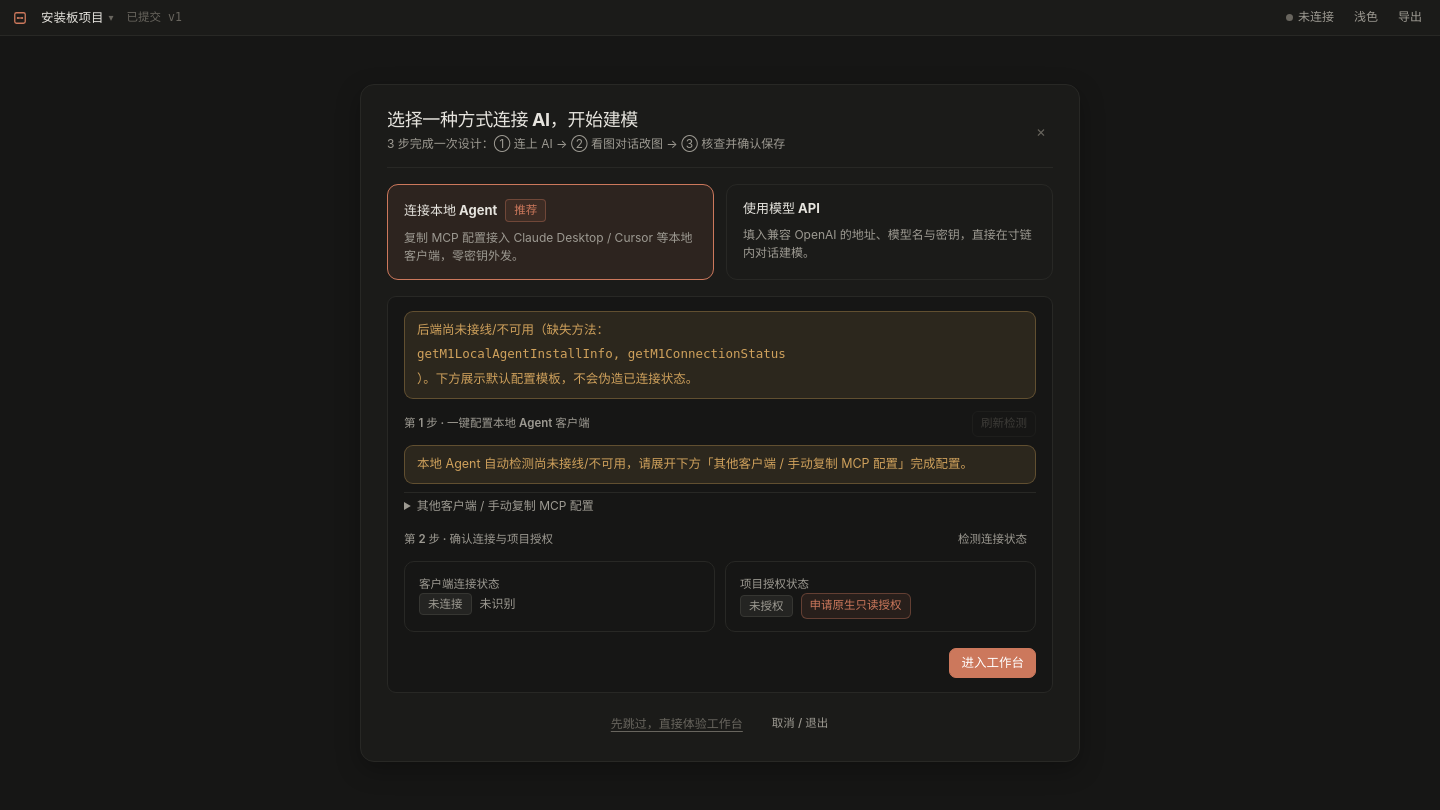
it: DesktopAgentWorkspace：申请原生只读授权直接拉起回归测试 › 未绑定文件时取消文件选择器，诚实提示取消且不误触发原生只读授权
Click the button "申请原生只读授权".
click(856, 606)  # box 800,593 -> 910,619
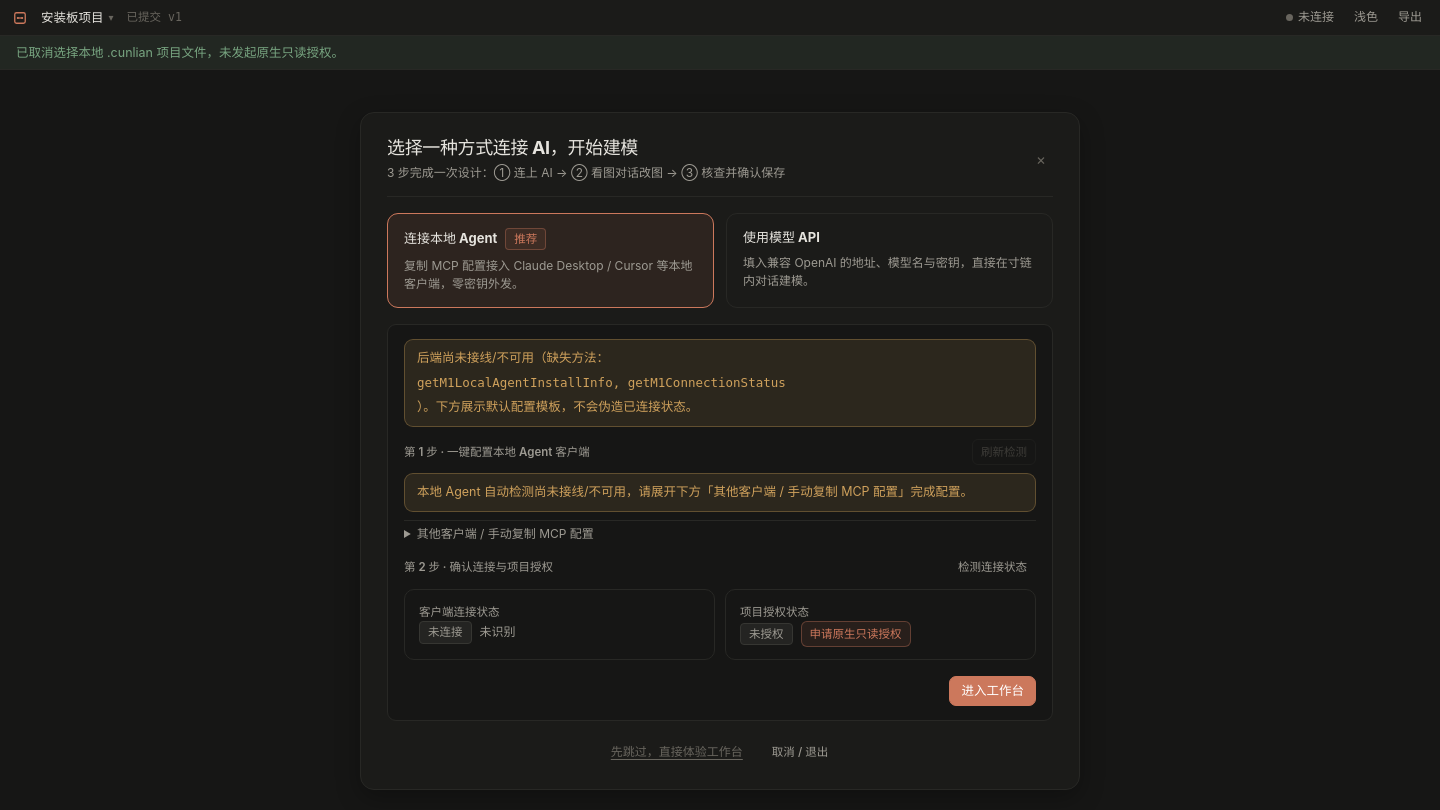
expect the text "未授权" is shown: met, box 740,623 -> 792,646
expect the text "已取消选择本地 .cunlian 项目文件，未发起原生只读授权。" is shown: met, box 16,45 -> 344,60
